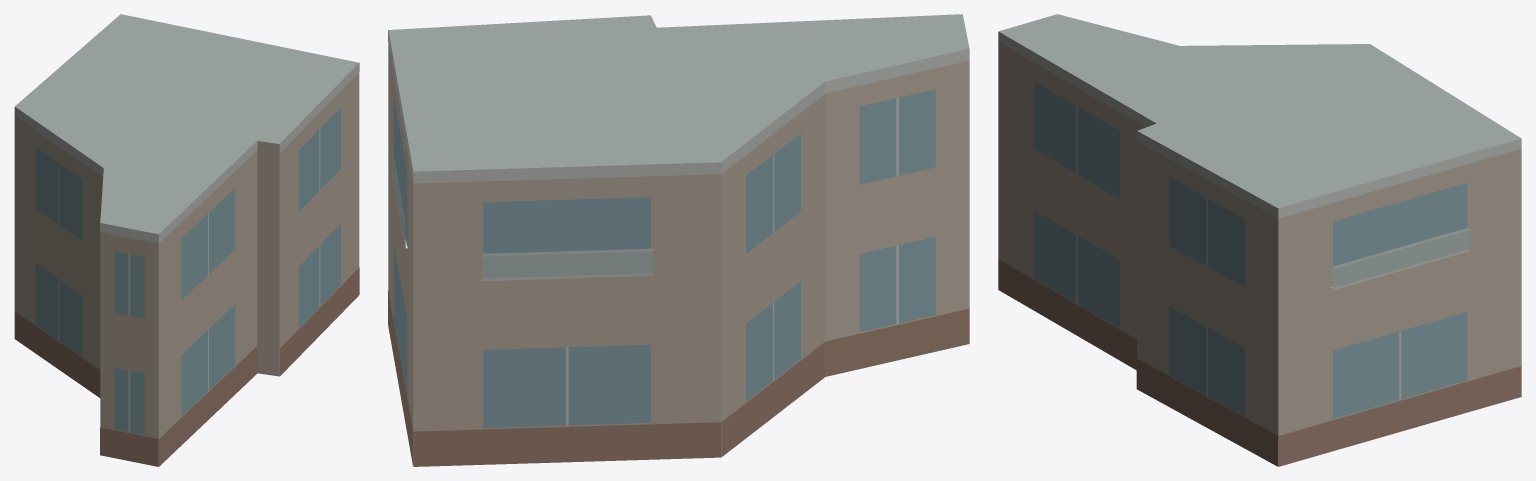
Rendered from survey-upis-32759472.glb.
The picture shows the model from 3 angles, left to right: view 1: azimuth 30°, elevation 25°; view 2: azimuth 150°, elevation 25°; view 3: azimuth 270°, elevation 25°; orthographic projection. The views are drawn at different scales.
Parts seen in each view (by area): view 1: survey-upis-32759472.tmp; view 2: survey-upis-32759472.tmp; view 3: survey-upis-32759472.tmp.
Part boxes in pixels (x1=…): survey-upis-32759472.tmp: x1=14, y1=14, x2=359, y2=466; survey-upis-32759472.tmp: x1=388, y1=14, x2=969, y2=466; survey-upis-32759472.tmp: x1=998, y1=14, x2=1521, y2=466.
Size of the model in its own units: 9.85 by 6.1 by 11.2.
